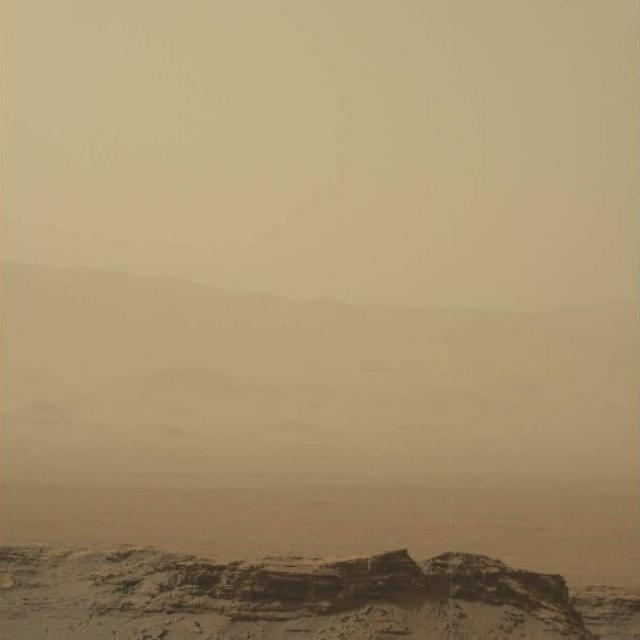rock: (0, 532, 640, 640)
